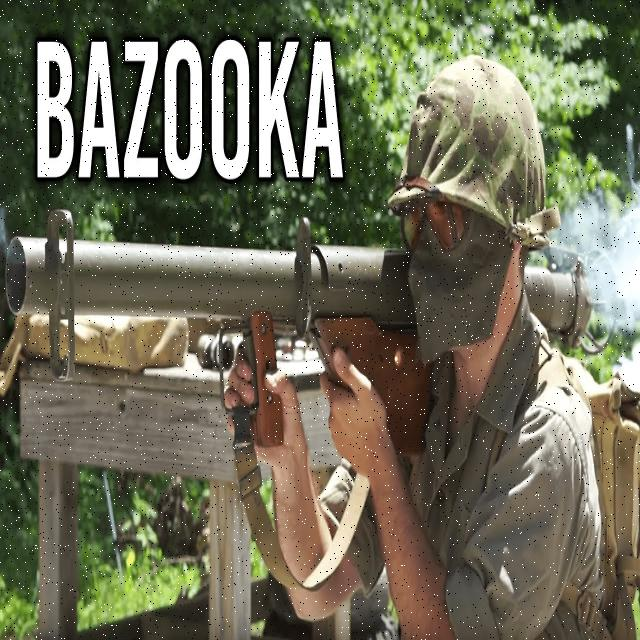bazooka: (5, 206, 629, 465)
